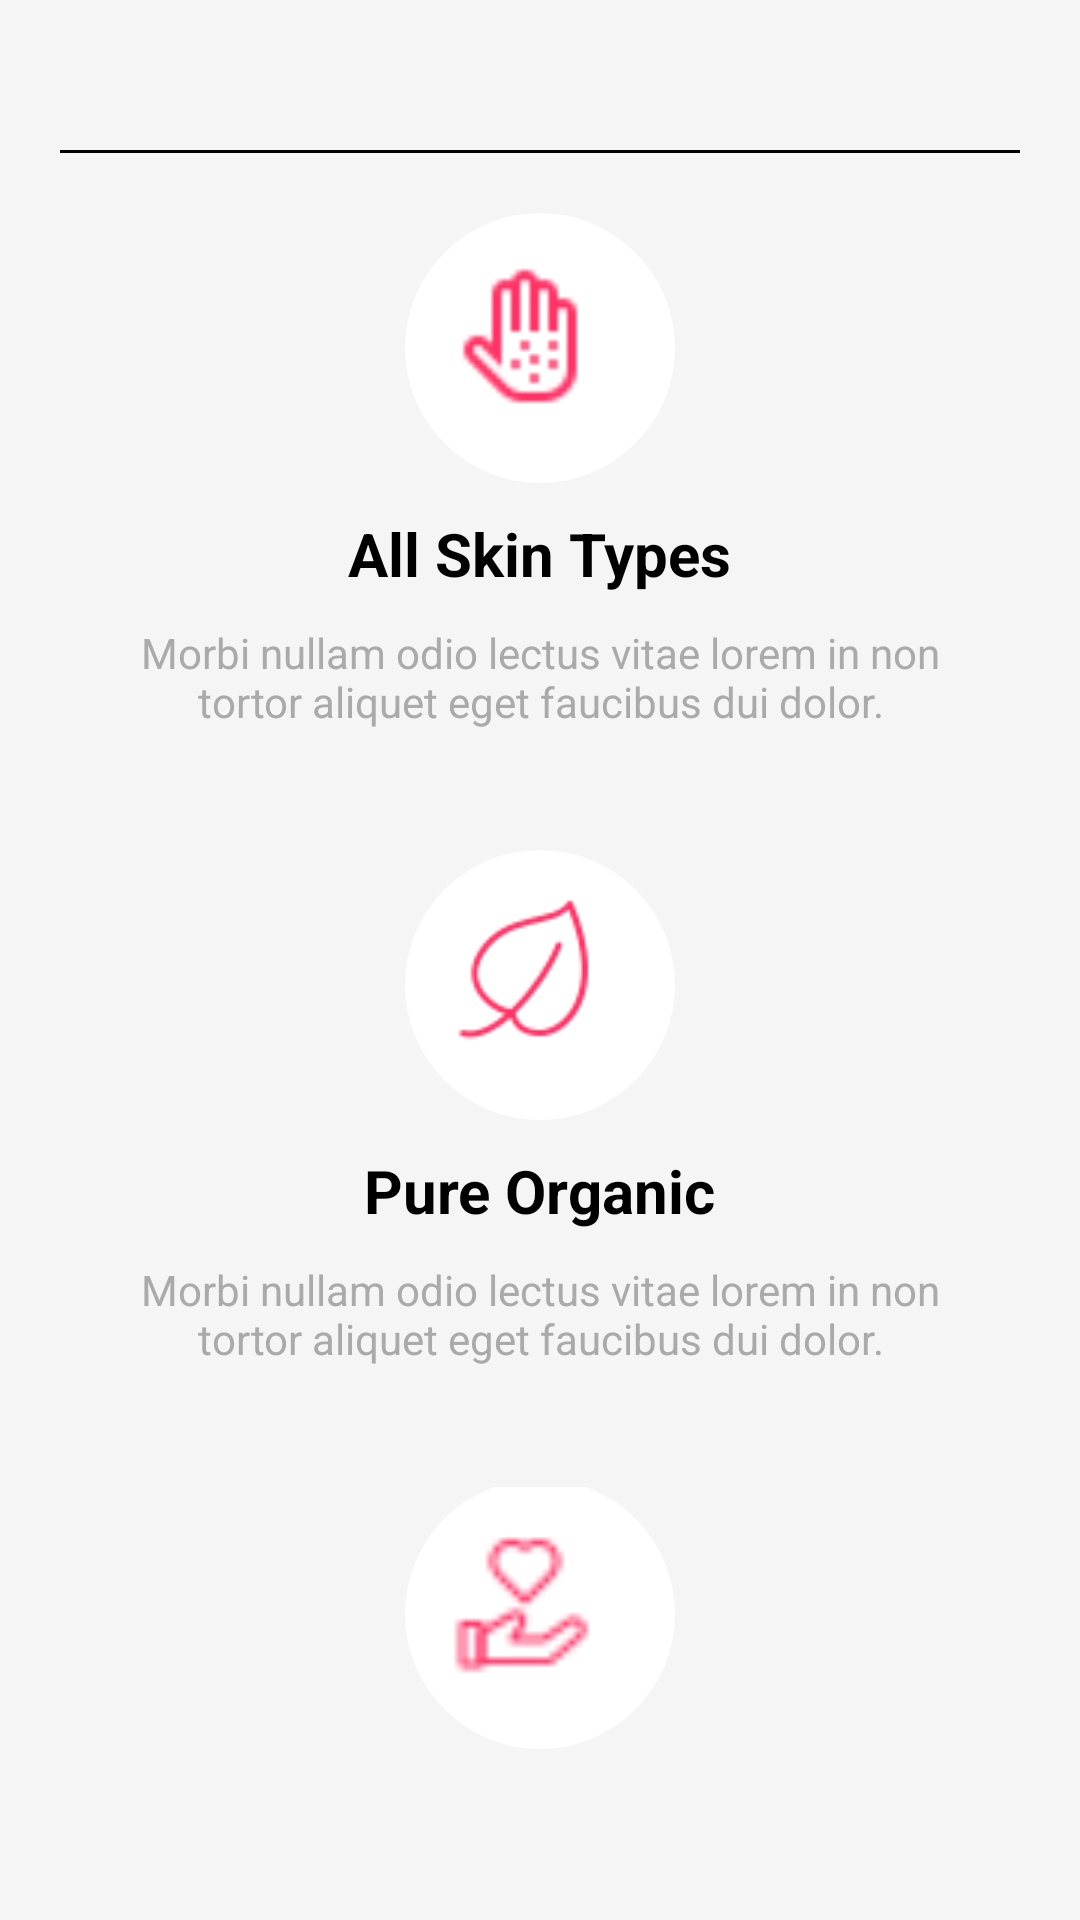

Named icons in this screenshot (1080×1920) and their bounding boxes, [left=x1, top=y1, right=x2, bottom=y2]:
heart care: [left=455, top=1537, right=590, bottom=1672]
leaf: [left=458, top=900, right=589, bottom=1040]
skin care: [left=462, top=269, right=578, bottom=403]
